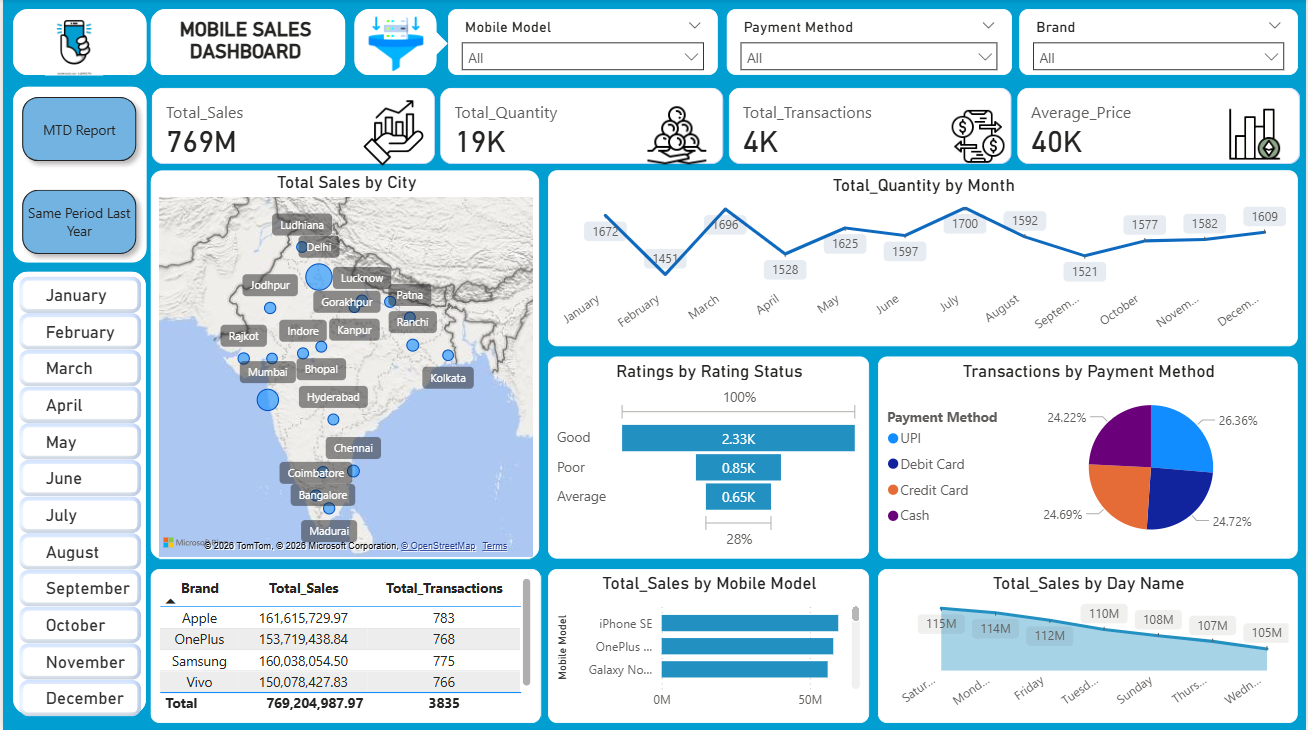

What the dashboard file says about the page in this screenshot:
{"tool":"powerbi","page":{"name":"Dashboard","canvas":[1280,720],"ordinal":0},"visuals":[{"type":"shape","box":[9.8,9.8,131.3,65],"z":0},{"type":"shape","box":[10.3,267.9,130.8,434.6],"z":1000},{"type":"shape","box":[9.8,85.9,131.3,173],"z":2000},{"type":"advancedSlicerVisual","fields":{"Values":["Custom_Calender.Date.Variation.Date Hierarchy.Month"]},"box":[11,267.5,130.1,442.9],"z":3000},{"type":"cardVisual","fields":{"Data":["Sales_Data.Total_Sales","Sales_Data.Total_Quantity","Sales_Data.Total_Transactions","Sales_Data.Average_Price"]},"box":[141.1,82.2,1138.7,85.9],"z":4000},{"type":"image","box":[11,13.5,117.8,61.4],"z":5000},{"type":"image","box":[630.7,99.4,61.4,68.7],"z":6000},{"type":"image","box":[923.9,108,66.3,54],"z":7000},{"type":"image","box":[1195.1,103.1,67.5,58.9],"z":8000},{"type":"image","box":[349.7,99.4,67.5,63.8],"z":9000},{"type":"shape","box":[144.8,9.8,191.4,65],"z":10000},{"type":"shape","box":[344.8,9.8,81,65],"z":11000},{"type":"shape","box":[397.5,30.7,39.3,25.8],"z":12000},{"type":"image","box":[354.6,17.2,62.6,54],"z":13000},{"type":"textbox","box":[149.7,13.5,176.7,68.7],"z":14000},{"type":"map","title":"Total Sales by City","fields":{"Category":["Sales_Data.City"],"Size":["Sales_Data.Total_Sales"]},"box":[144.8,168.1,381.6,381.6],"z":15000},{"type":"slicer","fields":{"Values":["Sales_Data.Mobile Model"]},"box":[436.8,9.8,265,65],"z":16000},{"type":"slicer","fields":{"Values":["Sales_Data.Brand"]},"box":[997.6,9.8,273.6,65],"z":17000},{"type":"slicer","fields":{"Values":["Sales_Data.Payment Method"]},"box":[710.4,9.8,279.8,65],"z":18000},{"type":"lineChart","fields":{"Y":["Sales_Data.Total_Quantity"],"Category":["Custom_Calender.Date.Variation.Date Hierarchy.Month"]},"box":[535,168.1,736.2,173],"z":19000},{"type":"funnel","title":"Ratings by Rating Status ","fields":{"Y":["CountNonNull(Sales_Data.Customer Ratings)"],"Category":["Sales_Data.Rating Status"]},"box":[535,350.9,315.3,198.8],"z":20000},{"type":"pieChart","title":"Transactions by Payment Method","fields":{"Category":["Sales_Data.Payment Method"],"Y":["Sales_Data.Total_Transactions"]},"box":[858.9,350.9,412.3,198.8],"z":21000},{"type":"clusteredBarChart","fields":{"Y":["Sales_Data.Total_Sales"],"Category":["Sales_Data.Mobile Model"]},"box":[535,559.5,315.3,150.9],"z":22000},{"type":"areaChart","fields":{"Y":["Sales_Data.Total_Sales"],"Category":["Custom_Calender.Day Name"]},"box":[858.9,559.5,412.3,150.9],"z":23000},{"type":"tableEx","fields":{"Values":["Sales_Data.Brand","Sales_Data.Total_Sales","Sales_Data.Total_Transactions"]},"box":[144.8,559.5,382.8,150.9],"z":24000},{"type":"pageNavigator","box":[9.8,87.1,130.1,173],"z":25000}]}

Visuals, with their boxes in screenshot pixels (x1, y1, x2, y2), scaled from the page's 1280x720 canvas onto the 1308x730 screenshot:
shape: (left=10, top=10, right=144, bottom=76)
shape: (left=11, top=272, right=144, bottom=712)
shape: (left=10, top=87, right=144, bottom=262)
advancedSlicerVisual - Custom_Calender.Date.Variation.Date Hierarchy.Month: (left=11, top=271, right=144, bottom=720)
cardVisual - Sales_Data.Total_Sales x Sales_Data.Total_Quantity: (left=144, top=83, right=1307, bottom=170)
image: (left=11, top=14, right=132, bottom=76)
image: (left=644, top=101, right=707, bottom=170)
image: (left=944, top=110, right=1012, bottom=164)
image: (left=1221, top=105, right=1290, bottom=164)
image: (left=357, top=101, right=426, bottom=165)
shape: (left=148, top=10, right=344, bottom=76)
shape: (left=352, top=10, right=435, bottom=76)
shape: (left=406, top=31, right=446, bottom=57)
image: (left=362, top=17, right=426, bottom=72)
textbox: (left=153, top=14, right=334, bottom=83)
"Total Sales by City" map: (left=148, top=170, right=538, bottom=557)
slicer - Sales_Data.Mobile Model: (left=446, top=10, right=717, bottom=76)
slicer - Sales_Data.Brand: (left=1019, top=10, right=1299, bottom=76)
slicer - Sales_Data.Payment Method: (left=726, top=10, right=1012, bottom=76)
lineChart - Sales_Data.Total_Quantity x Custom_Calender.Date.Variation.Date Hierarchy.Month: (left=547, top=170, right=1299, bottom=346)
"Ratings by Rating Status " funnel: (left=547, top=356, right=869, bottom=557)
"Transactions by Payment Method" pieChart: (left=878, top=356, right=1299, bottom=557)
clusteredBarChart - Sales_Data.Total_Sales x Sales_Data.Mobile Model: (left=547, top=567, right=869, bottom=720)
areaChart - Sales_Data.Total_Sales x Custom_Calender.Day Name: (left=878, top=567, right=1299, bottom=720)
tableEx - Sales_Data.Brand x Sales_Data.Total_Sales: (left=148, top=567, right=539, bottom=720)
pageNavigator: (left=10, top=88, right=143, bottom=264)
